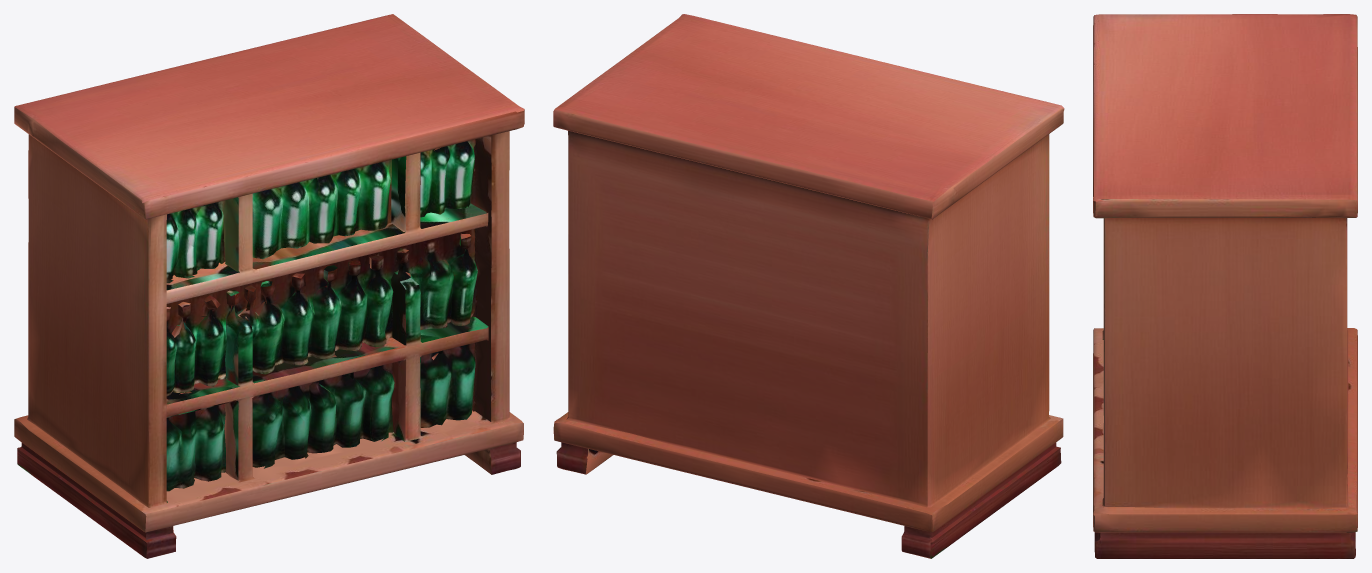
File: wine_rack.glb
3 renders of one model, left to right at view 1: azimuth 30°, elevation 25°; view 2: azimuth 150°, elevation 25°; view 3: azimuth 270°, elevation 25°, orthographic.
Parts seen in each view (by area): view 1: wine_rack; view 2: wine_rack; view 3: wine_rack.
Boxes of the visible parts, x1,y1,x2,y2 form: wine_rack: [14, 14, 524, 558]; wine_rack: [553, 14, 1064, 558]; wine_rack: [1093, 14, 1357, 558].
Bounding box in the file's own units: 1 × 0.9004 × 0.5974.
Materials: 1 (1 with a texture image).
